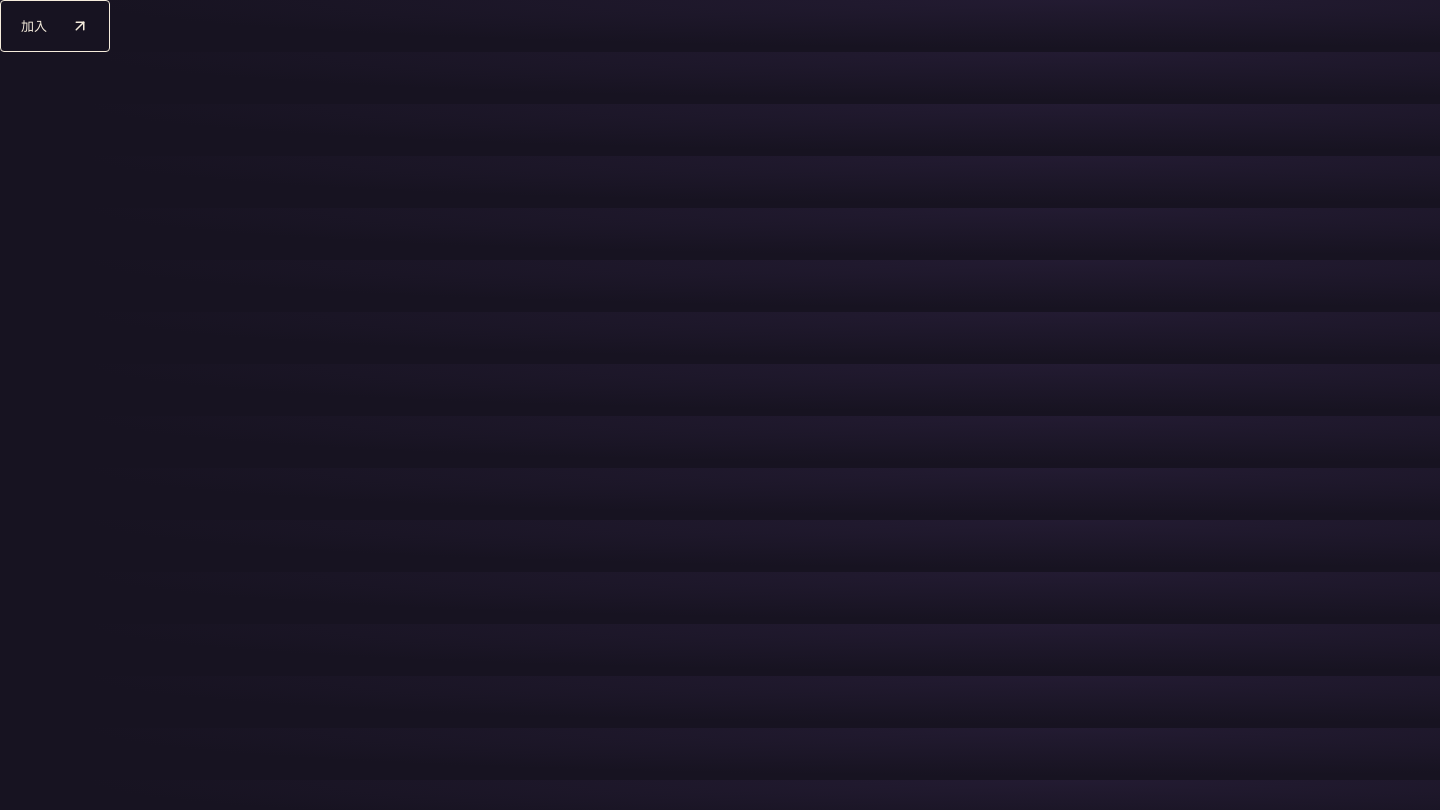
Test case: labels fields and prevents duplicate asynchronous submissions
The image size is (1440, 810).
Click the button "加入" at [55, 26], box [0,0,110,52]
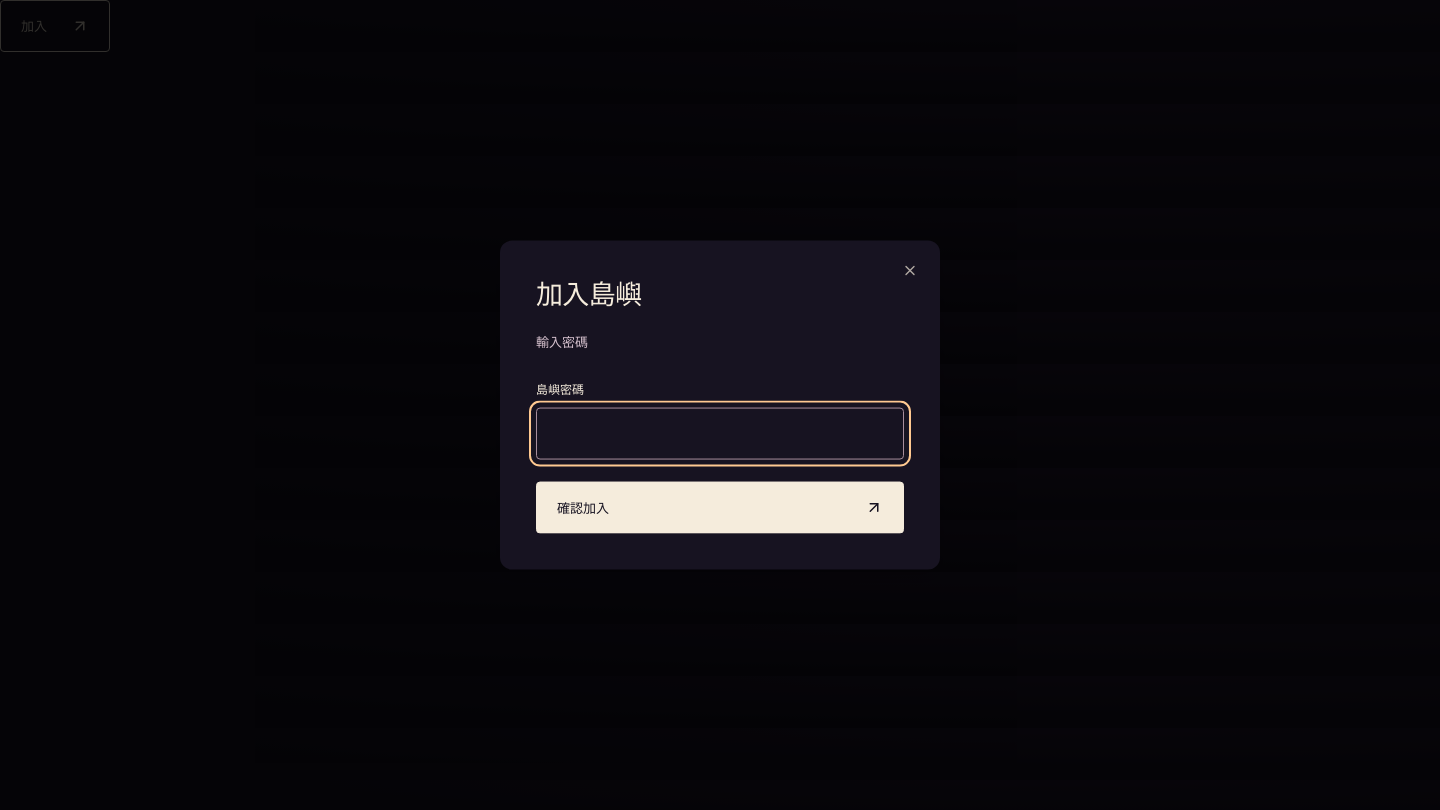
Type "secret123" into the password field labelled "島嶼密碼" at [720, 433], box [536,407,904,459]
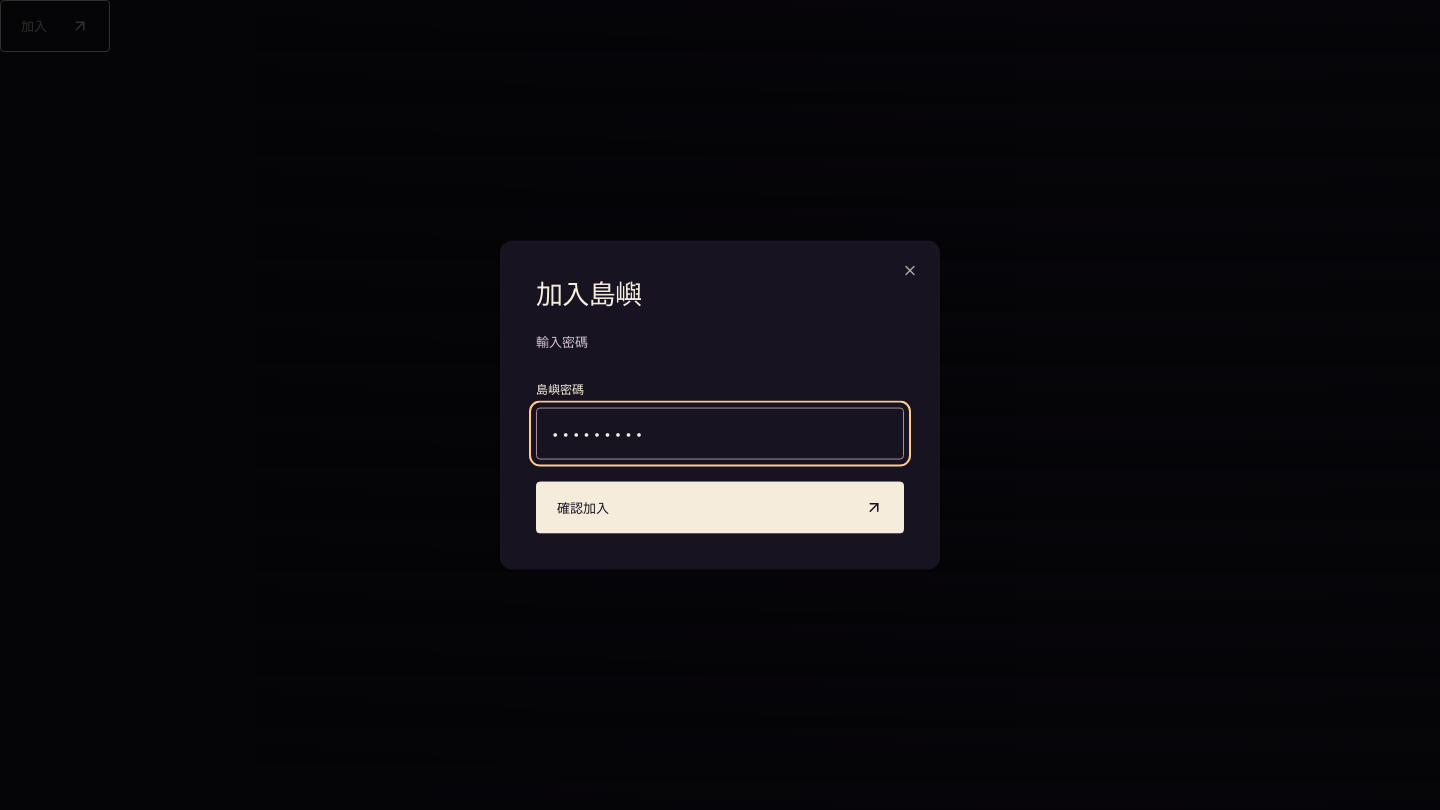
Submit the text "確認加入", box [536,380,904,533]
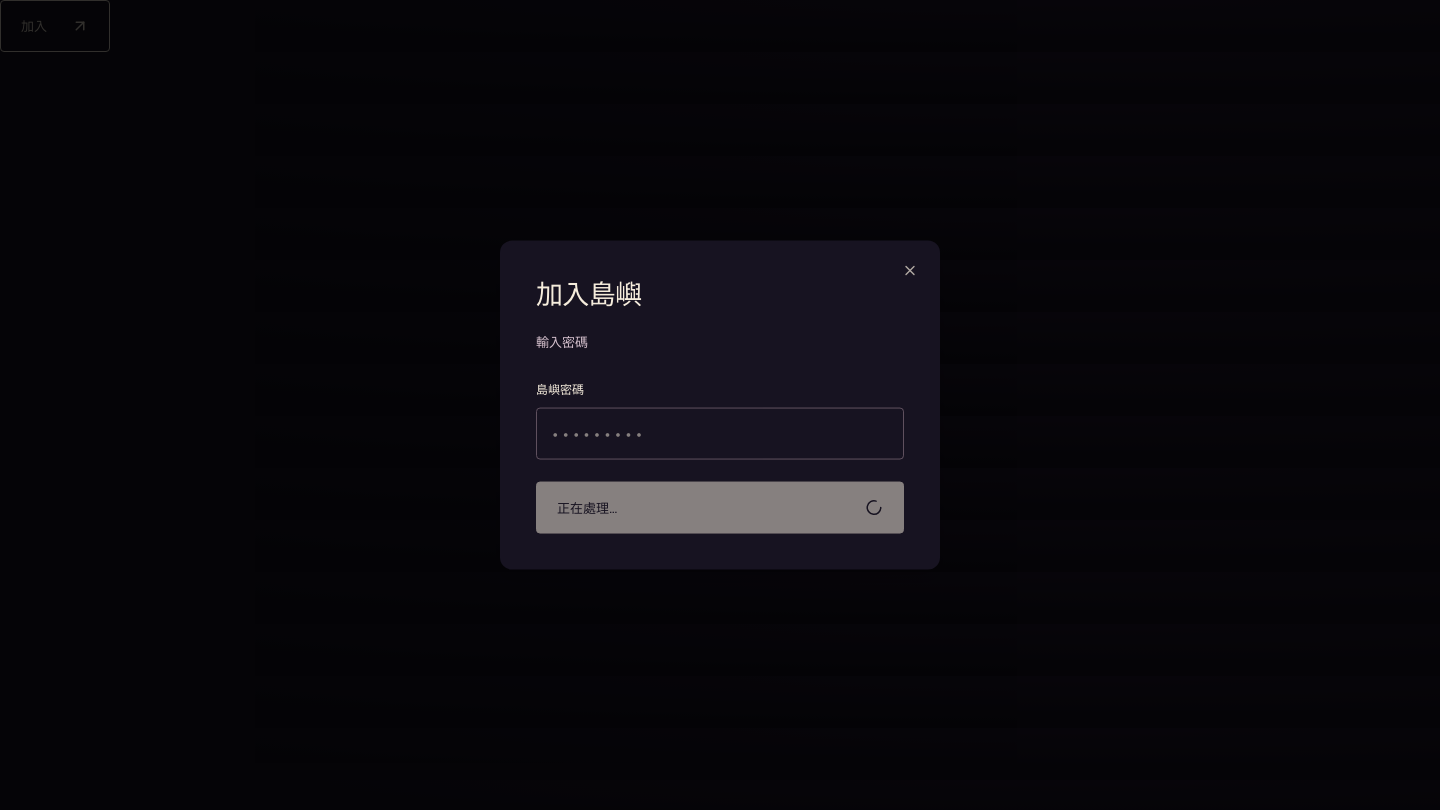
Submit the text "確認加入", box [536,380,904,533]
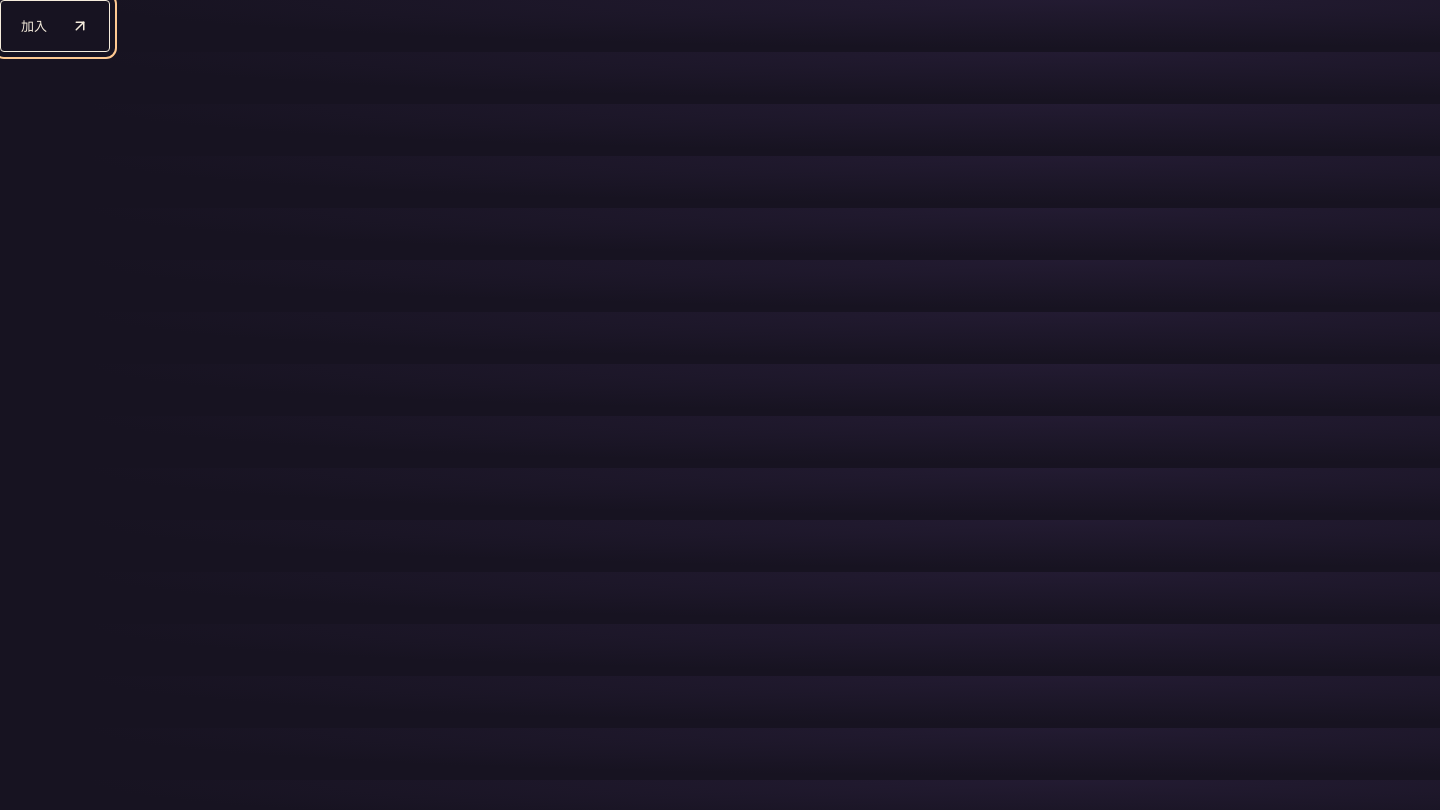
Result: the dialog is gone
